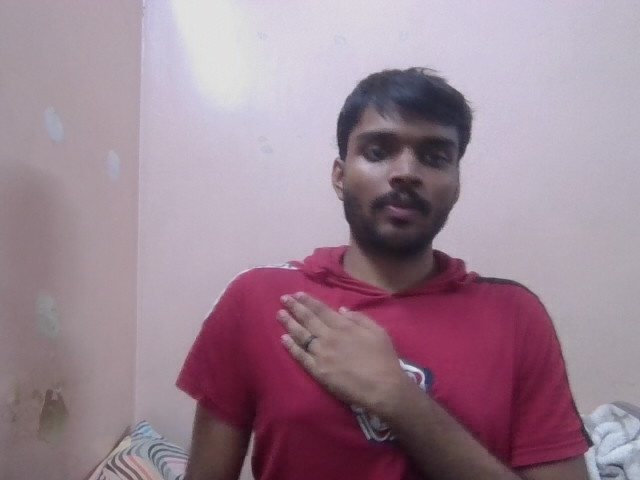Please: (275, 283, 412, 396)
